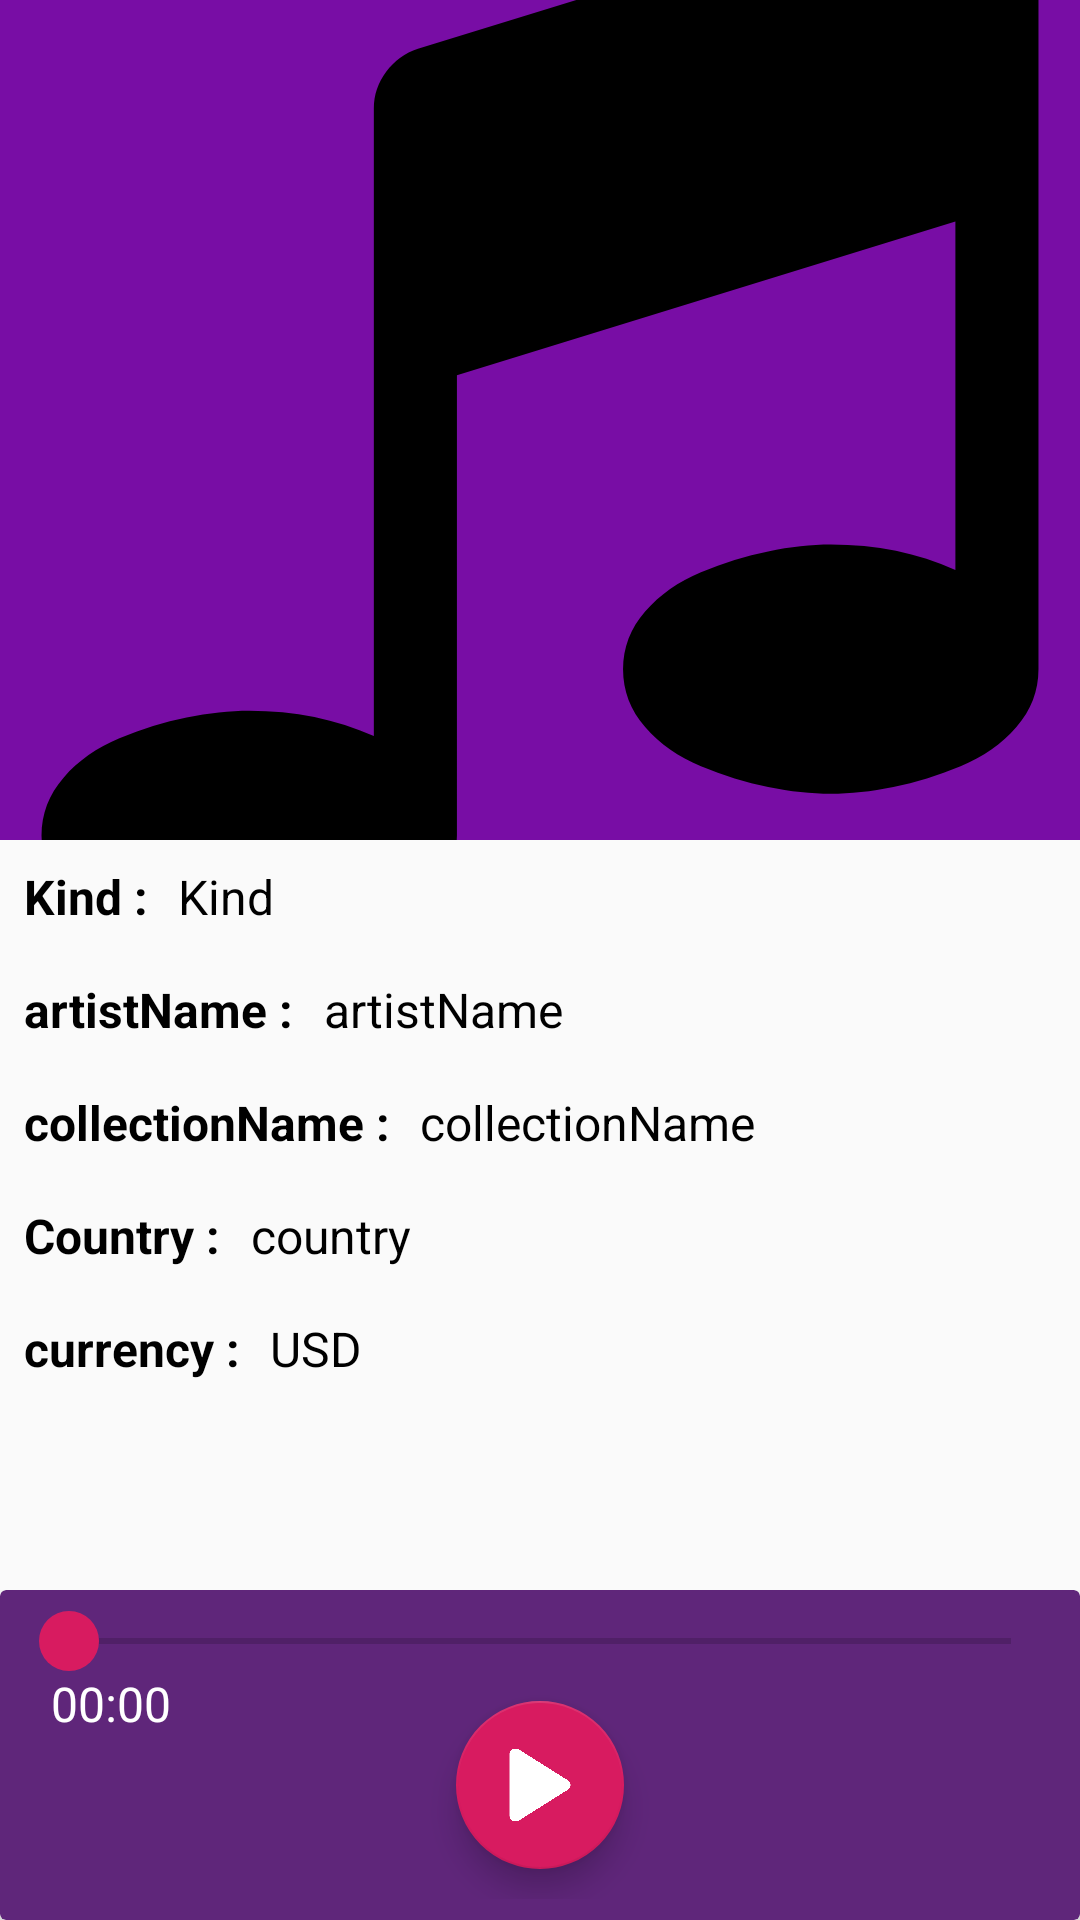

Icons on this 1080x1920 Android screen, each with its box as bbox=(x1, y1, x2, y2):
play: bbox=(456, 1701, 624, 1869)
